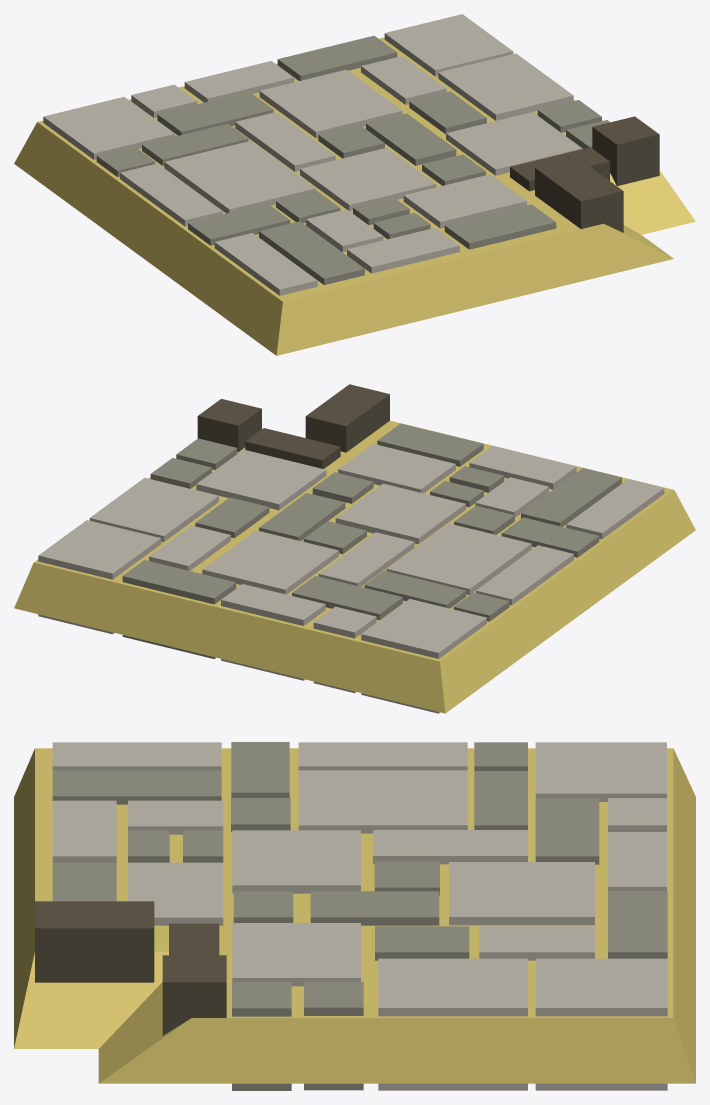
File: InnerCorner.fbx
3 renders of one model, top to bottom at view 1: azimuth 30°, elevation 25°; view 2: azimuth 150°, elevation 25°; view 3: azimuth 270°, elevation 25°, orthographic. The views are drawn at different scales.
Visible parts, largest first — view 1: Stone - Inner Corner; view 2: Stone - Inner Corner; view 3: Stone - Inner Corner.
Part boxes in pixels (bbox=[...]): Stone - Inner Corner: bbox=[14, 14, 695, 355]; Stone - Inner Corner: bbox=[14, 384, 695, 713]; Stone - Inner Corner: bbox=[14, 742, 695, 1090].
Bounding box in the file's own units: 106 × 19.07 × 107.
